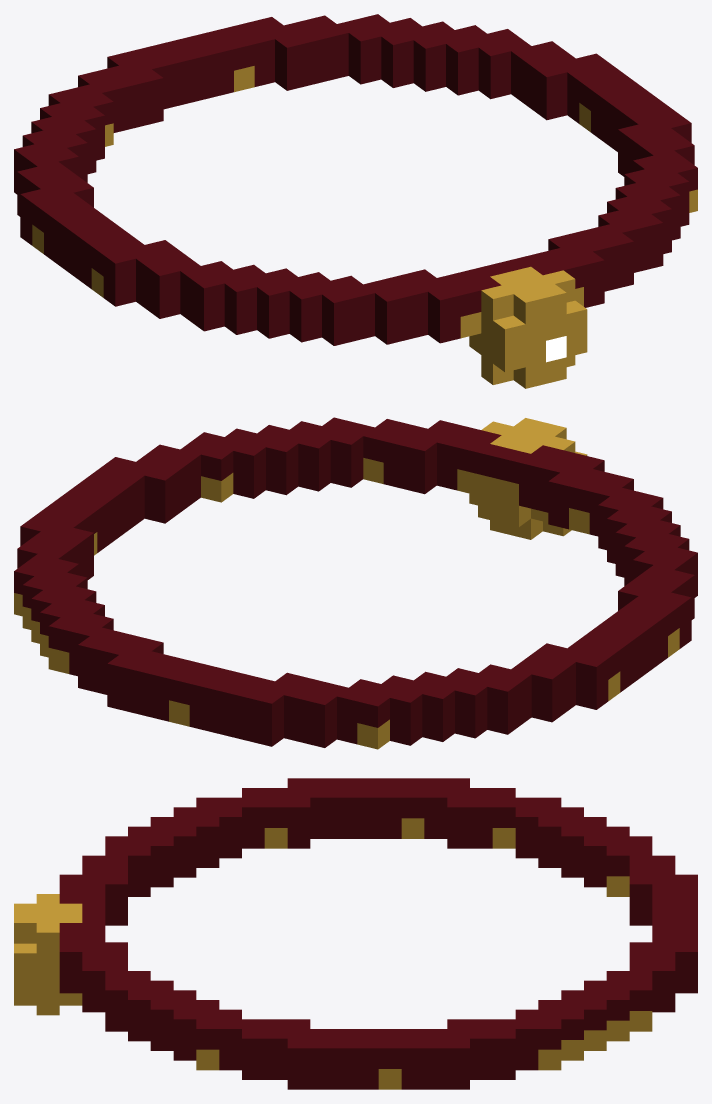
The model's file is collar_epic.glb.
3 renders of one model, top to bottom at view 1: azimuth 30°, elevation 25°; view 2: azimuth 150°, elevation 25°; view 3: azimuth 270°, elevation 25°, orthographic. The views are drawn at different scales.
Parts seen in each view (by area): view 1: collar_epic; view 2: collar_epic; view 3: collar_epic.
Part boxes in pixels (left/top/right/bottom): collar_epic: left=14, top=14, right=697, bottom=388; collar_epic: left=14, top=417, right=697, bottom=749; collar_epic: left=14, top=778, right=697, bottom=1089.
Size of the model in its own units: 0.224 by 0.032 by 0.24.
